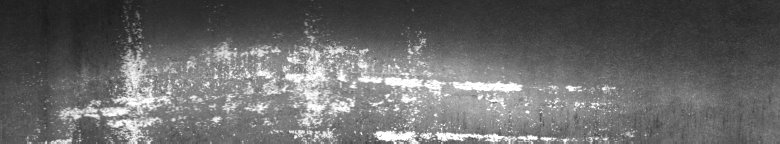kb: (37, 11, 637, 136)
